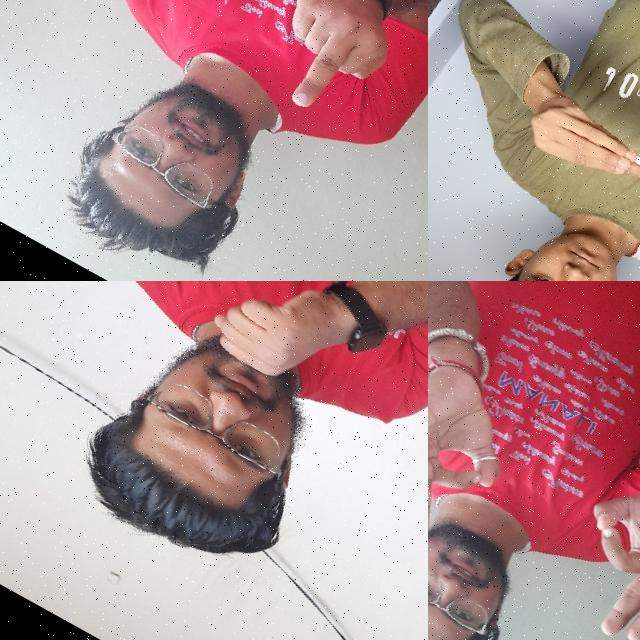Fist Mouth: (60, 281, 390, 589)
Five Fathers: (511, 64, 640, 248)
Middle Finger: (243, 0, 428, 145)
Okay: (428, 330, 557, 564), (533, 442, 640, 640)
